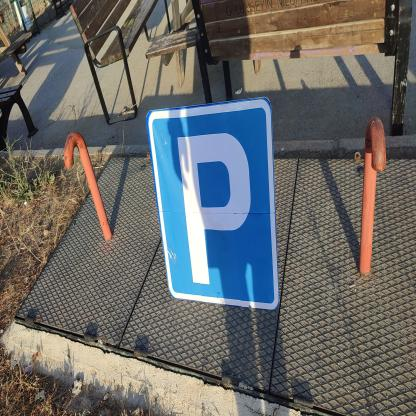Parking-Sign: (145, 96, 284, 314)
